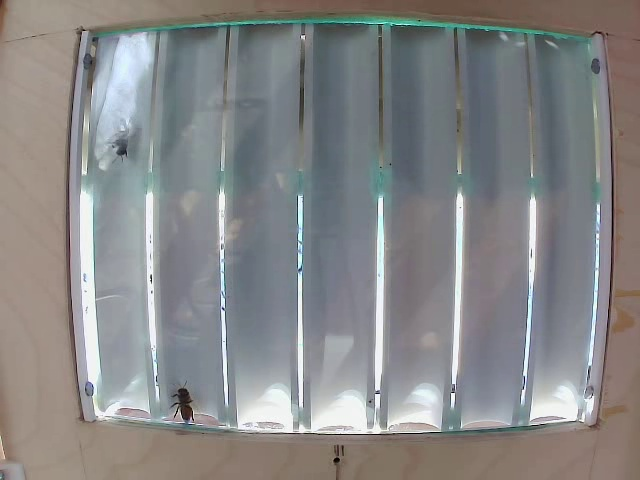bee: (167, 372, 202, 425)
